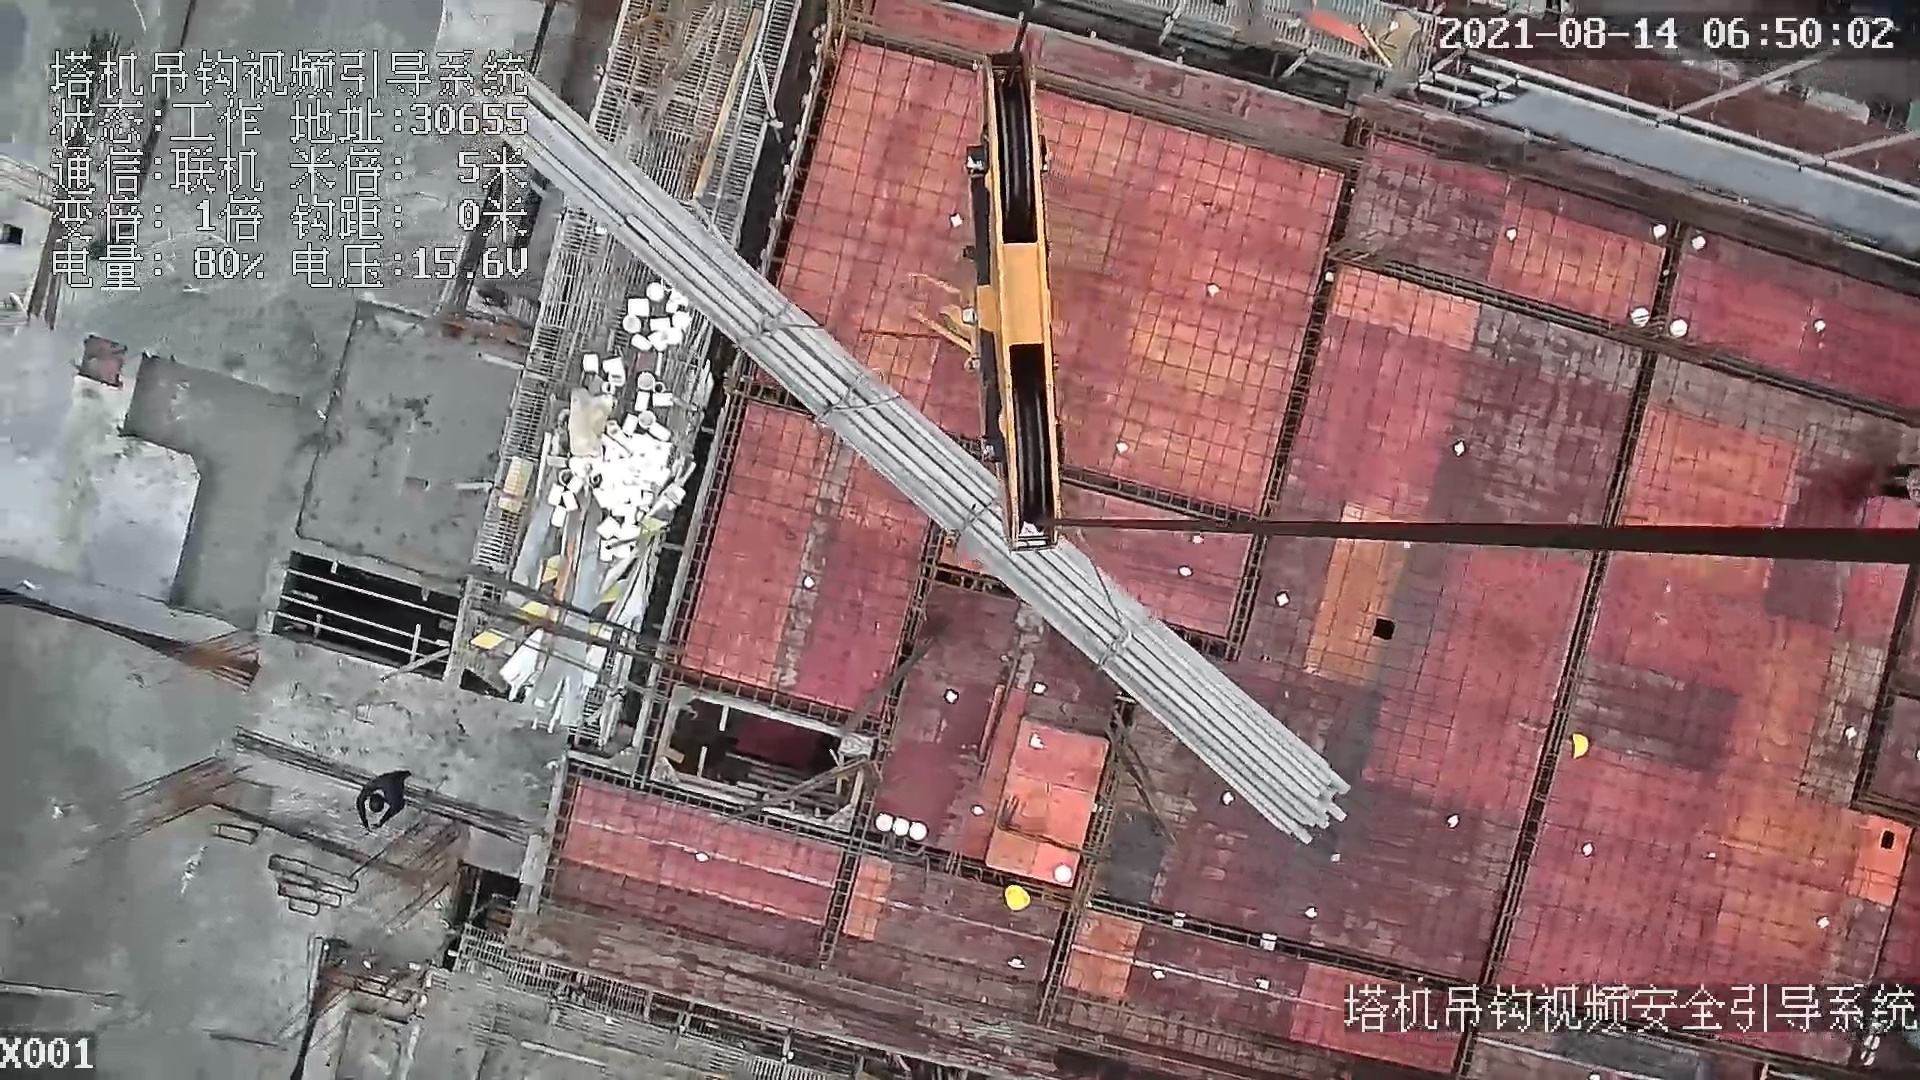helmet: (998, 875, 1036, 920), (1566, 725, 1595, 768)
hook: (887, 44, 1070, 556)
person: (351, 762, 412, 832)
